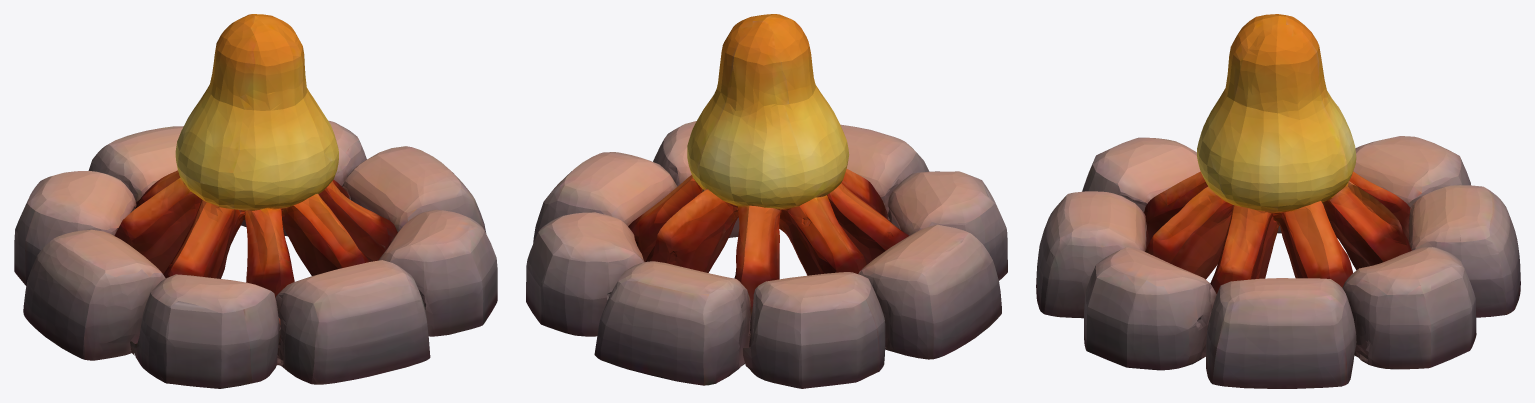
Rendered from campfire.glb.
3 views of the same model, side by side, from view 1: azimuth 30°, elevation 25°; view 2: azimuth 150°, elevation 25°; view 3: azimuth 270°, elevation 25° (orthographic).
Parts seen in each view (by area): view 1: world; view 2: world; view 3: world.
Part boxes in pixels (x1=…): world: x1=14, y1=14, x2=497, y2=388; world: x1=526, y1=14, x2=1007, y2=388; world: x1=1036, y1=14, x2=1520, y2=388.
Size of the model in its own units: 0.999 by 0.6311 by 0.9992.
1 material, 1 textured.
